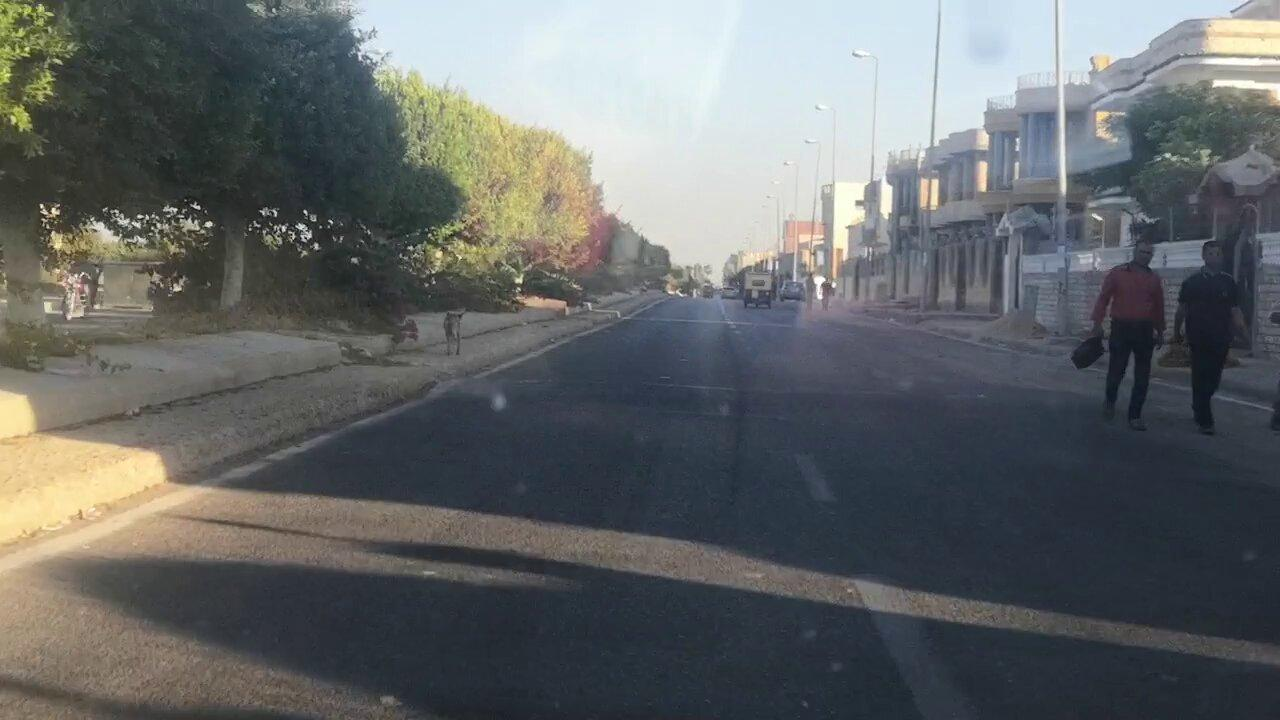Bump: (416, 369, 1090, 414)
